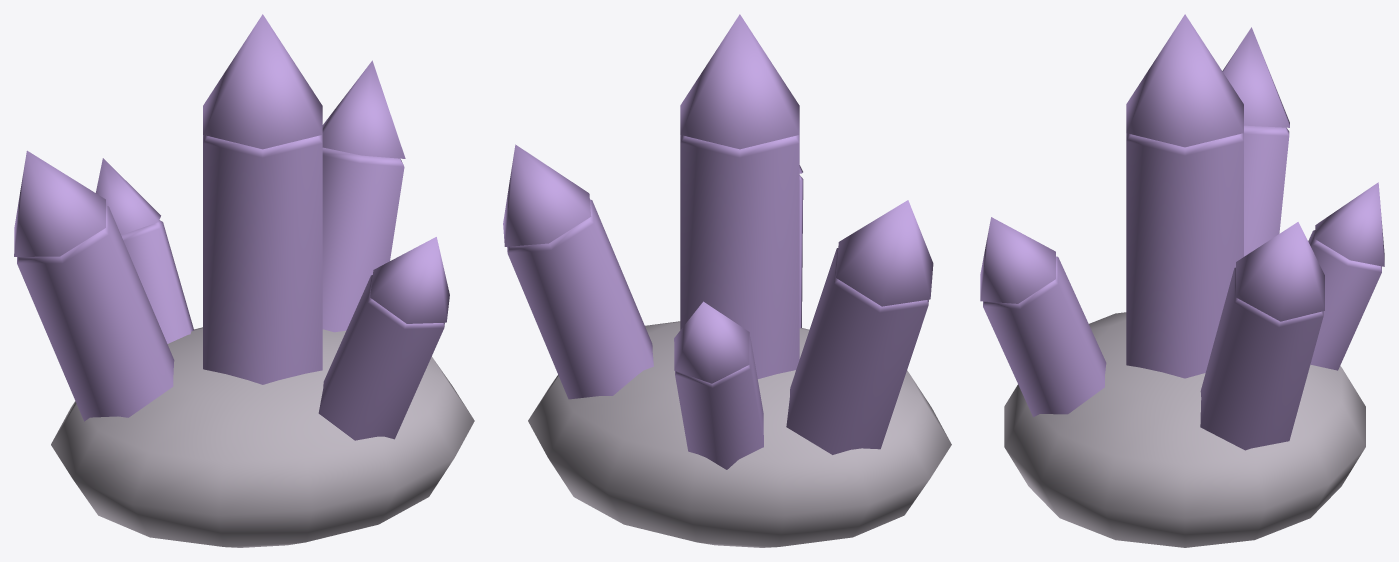
File: Amethyst_Cluster.fbx
The picture shows the model from 3 angles, left to right: view 1: azimuth 30°, elevation 25°; view 2: azimuth 150°, elevation 25°; view 3: azimuth 270°, elevation 25°; orthographic projection.
Visible parts, largest first — view 1: Amethyst_Cluster_Mesh; view 2: Amethyst_Cluster_Mesh; view 3: Amethyst_Cluster_Mesh.
Part boxes in pixels (x1,y1,x2,y2): Amethyst_Cluster_Mesh: [14, 14, 474, 547]; Amethyst_Cluster_Mesh: [503, 14, 951, 547]; Amethyst_Cluster_Mesh: [980, 14, 1384, 547].
Bounding box in the file's own units: 0.1509 × 0.1774 × 0.1307.
